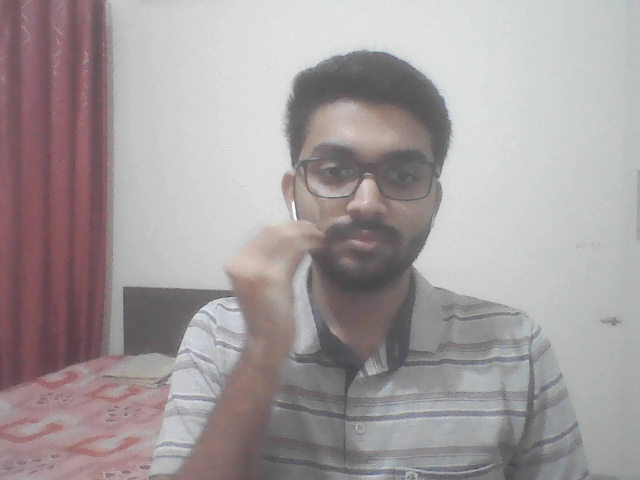home: (215, 208, 328, 364)
